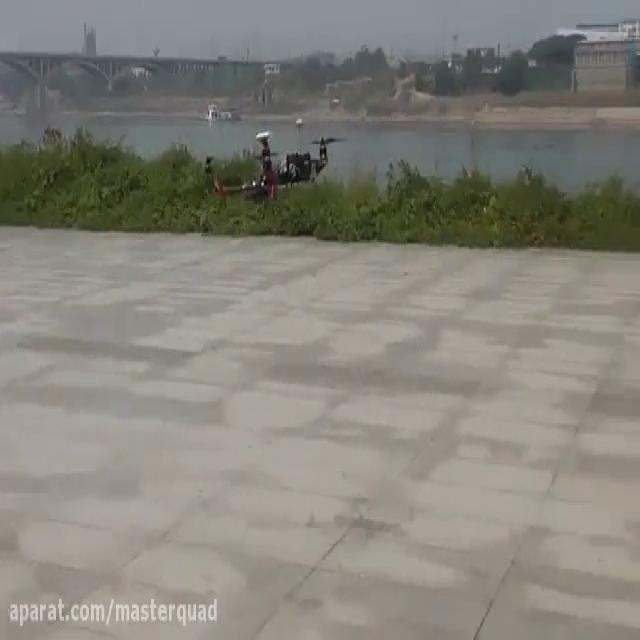drone: (200, 112, 348, 203)
